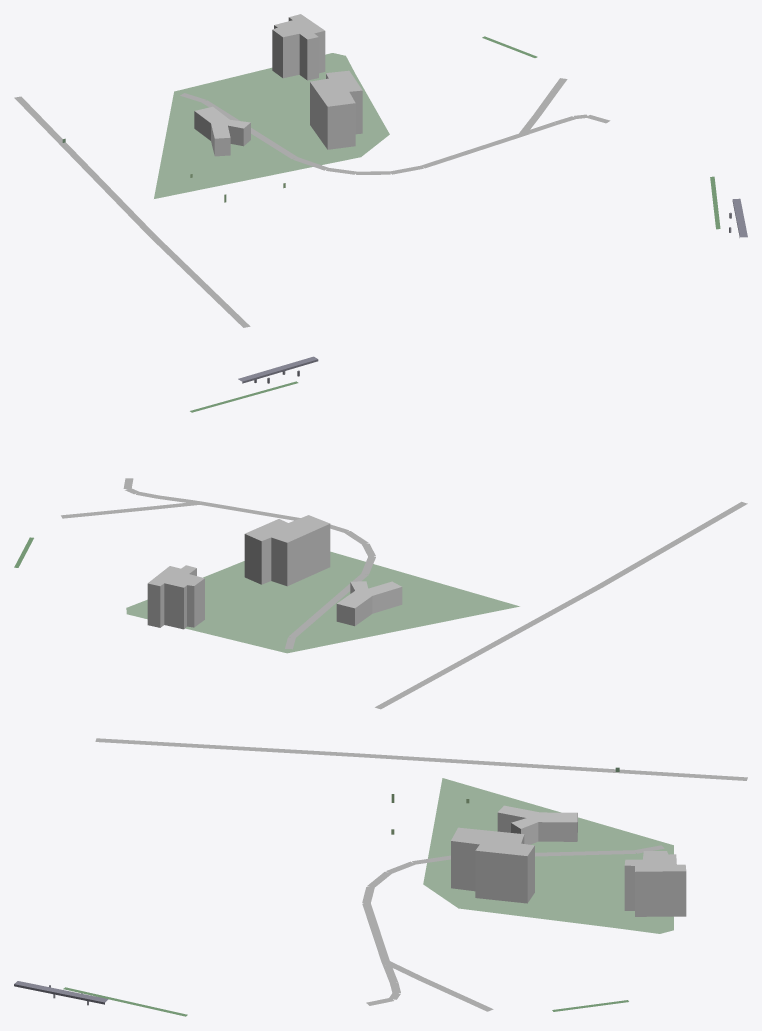
3 renders of one model, top to bottom at view 1: azimuth 30°, elevation 25°; view 2: azimuth 150°, elevation 25°; view 3: azimuth 270°, elevation 25°, orthographic. The views are drawn at different scales.
Size of the model in its own units: 520 by 42.67 by 588.
